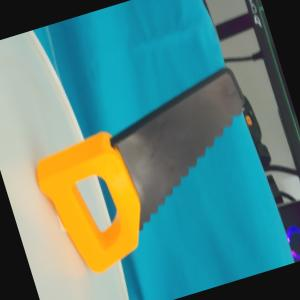serrote: (20, 64, 282, 284)
